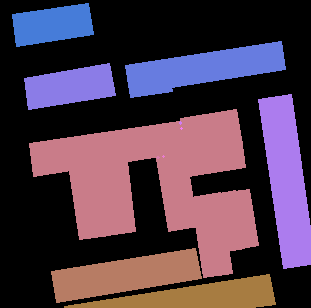parkingspot: (258, 94, 311, 268), (125, 41, 285, 97), (29, 121, 185, 176), (51, 248, 201, 302), (64, 274, 275, 308), (24, 63, 115, 109), (191, 192, 232, 277), (12, 3, 93, 46), (156, 152, 197, 231), (69, 166, 109, 239), (97, 161, 135, 235), (180, 109, 241, 148), (185, 137, 245, 176), (219, 190, 244, 251), (233, 189, 258, 248)
